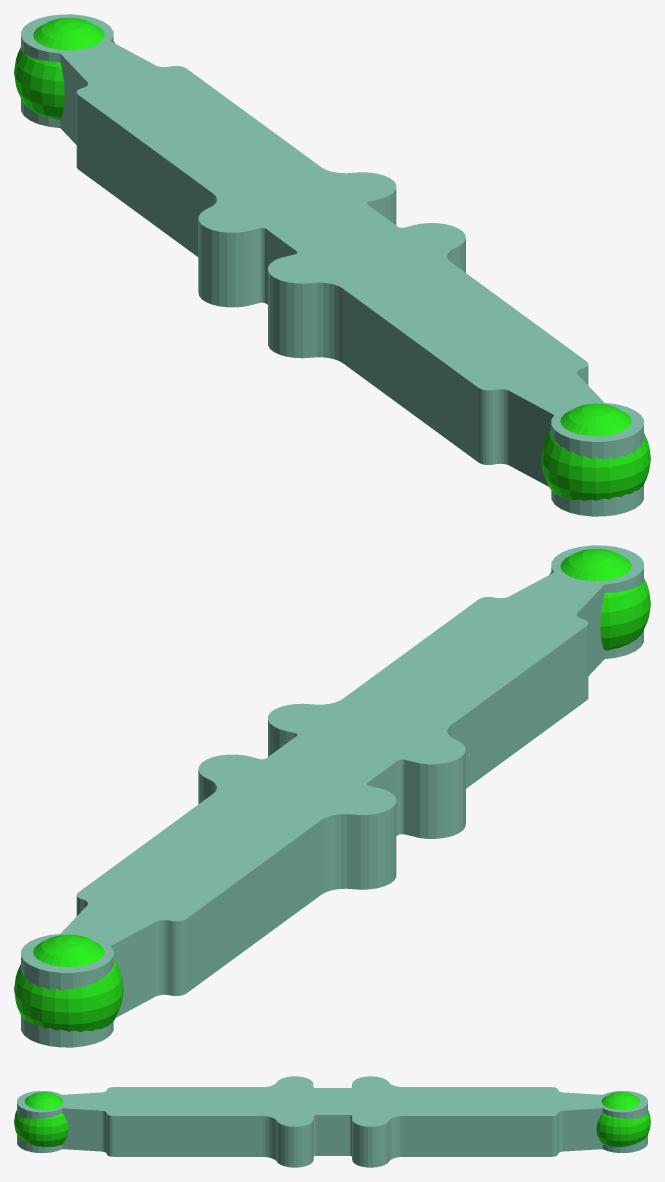
3 renders of one model, top to bottom at view 1: azimuth 30°, elevation 25°; view 2: azimuth 150°, elevation 25°; view 3: azimuth 270°, elevation 25°, orthographic. The views are drawn at different scales.
Visible parts, largest first — view 1: star_2_u, cPassive, cActive; view 2: star_2_u, cActive, cPassive; view 3: star_2_u, cActive, cPassive.
Part boxes in pixels (x1,y1,x2,y2): star_2_u: (21,14,643,516); cPassive: (541,403,650,500); cActive: (14,18,115,119); star_2_u: (21,545,643,1047); cActive: (14,934,123,1031); cPassive: (549,549,650,650); star_2_u: (17,1076,647,1167); cActive: (596,1092,650,1146); cPassive: (14,1092,68,1146).
Bounding box in the file's own units: 7.94 × 4 × 42.4.
